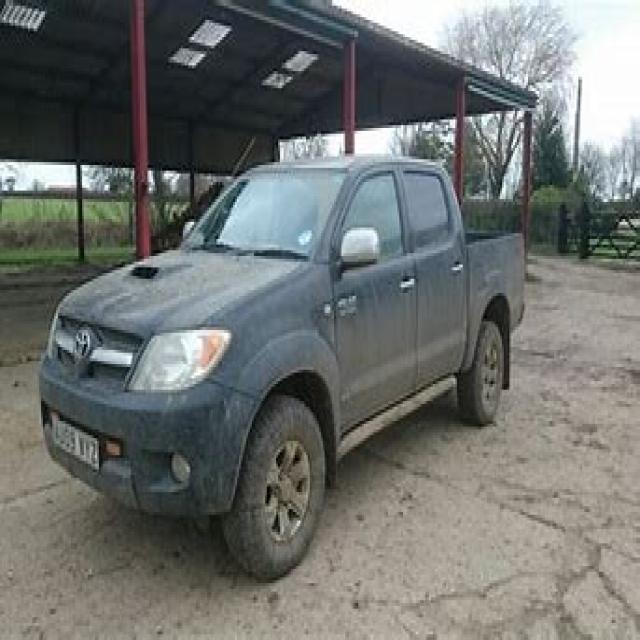light_vehicle: (37, 145, 532, 575)
